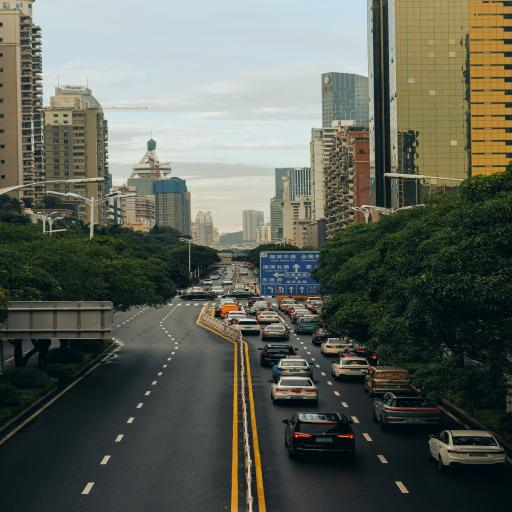car: (283, 413, 354, 459), (429, 431, 506, 470), (373, 392, 441, 429), (365, 366, 411, 397), (270, 376, 318, 404), (332, 358, 370, 380), (259, 343, 296, 365), (273, 358, 313, 378), (339, 345, 377, 365), (321, 338, 352, 355), (232, 318, 260, 335), (262, 324, 290, 340), (295, 316, 319, 333), (181, 291, 216, 300), (221, 304, 240, 320), (257, 310, 279, 323), (290, 309, 310, 323), (223, 290, 254, 299), (224, 312, 247, 324), (312, 329, 329, 345), (285, 304, 307, 315), (248, 303, 266, 315), (279, 299, 296, 310), (305, 297, 321, 308), (248, 295, 265, 305), (305, 299, 321, 309), (283, 305, 298, 315), (257, 304, 275, 312), (310, 303, 322, 313), (215, 303, 224, 316), (219, 299, 239, 304), (211, 286, 223, 293), (234, 284, 244, 290), (204, 279, 212, 284), (211, 276, 219, 281), (193, 287, 203, 291), (223, 280, 232, 284), (241, 271, 248, 275), (254, 270, 259, 275)
